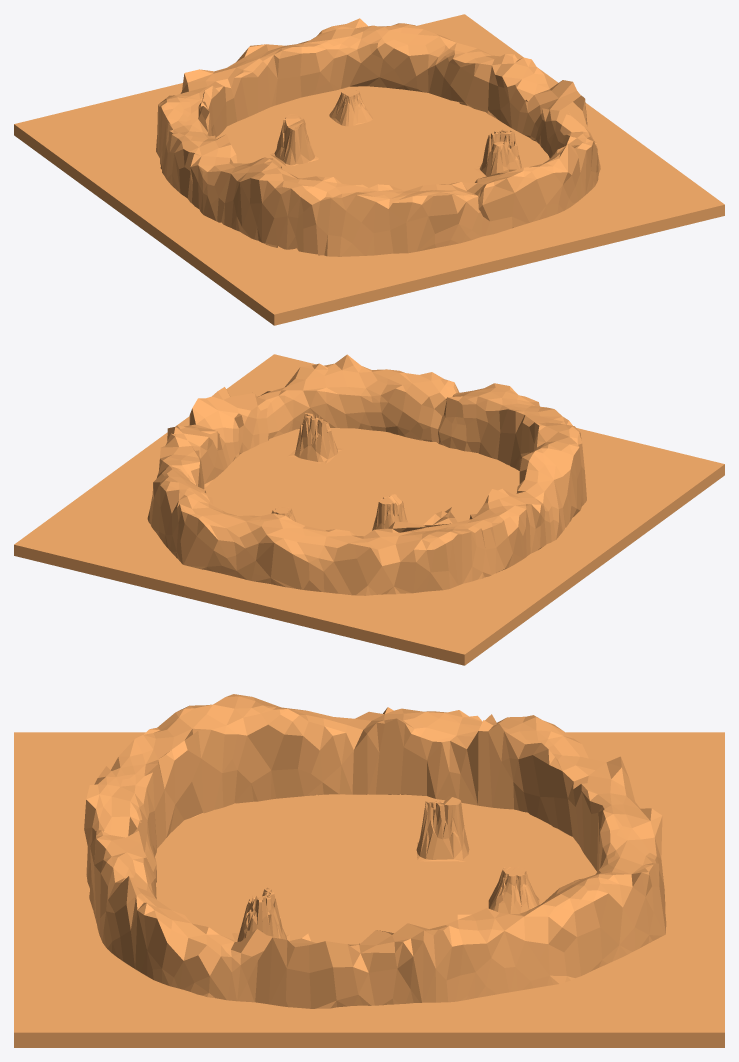
Rendered from MountainErena1.fbx.
3 renders of one model, top to bottom at view 1: azimuth 30°, elevation 25°; view 2: azimuth 150°, elevation 25°; view 3: azimuth 270°, elevation 25°, orthographic. The views are drawn at different scales.
Visible parts, largest first — view 1: Plane, Landscape.001, Landscape.003, Landscape.004, Landscape.010; view 2: Plane, Landscape.001, Landscape.004, Landscape.003; view 3: Plane, Landscape.001, Landscape.003, Landscape.010, Landscape.004.
Part boxes in pixels (<box>): Plane: <box>14,14,724,325</box>; Landscape.001: <box>156,18,600,256</box>; Landscape.003: <box>270,114,318,166</box>; Landscape.004: <box>474,129,522,176</box>; Landscape.010: <box>329,88,372,126</box>; Plane: <box>14,354,724,665</box>; Landscape.001: <box>147,354,586,595</box>; Landscape.004: <box>288,413,342,463</box>; Landscape.003: <box>372,494,407,530</box>; Plane: <box>14,732,724,1047</box>; Landscape.001: <box>84,694,666,1008</box>; Landscape.003: <box>416,796,469,861</box>; Landscape.010: <box>488,866,540,913</box>; Landscape.004: <box>232,887,289,941</box>.
Size of the model in its own units: 40000 by 6213 by 40000.
